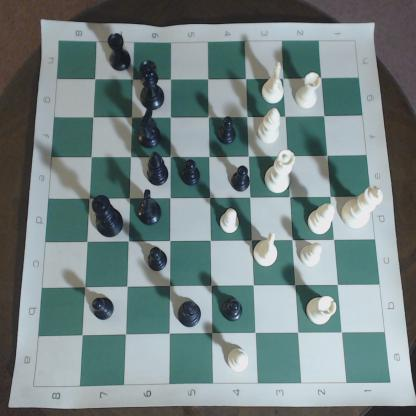black-bishop: (145, 151, 174, 191), (178, 297, 204, 330)
black-king: (91, 192, 126, 241)
black-knight: (138, 106, 169, 149), (136, 190, 165, 233)
black-pawn: (220, 298, 249, 329), (93, 293, 119, 326), (230, 160, 254, 195), (142, 249, 172, 273), (215, 115, 238, 146), (180, 159, 201, 186)
black-queen: (138, 55, 170, 112)
black-rook: (102, 32, 134, 75)
white-bishop: (255, 109, 288, 150), (304, 198, 337, 238)
white-king: (344, 184, 384, 229)
white-knight: (253, 233, 284, 271), (262, 62, 287, 106)
white-pawn: (215, 205, 248, 240), (222, 344, 257, 376)
white-queen: (263, 151, 298, 200)
white-rook: (301, 289, 346, 329), (294, 72, 326, 116)
